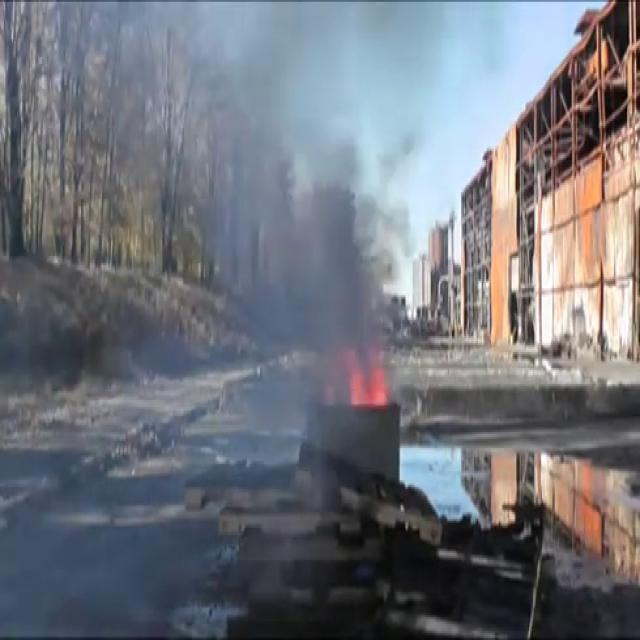Fire: (344, 344, 392, 406)
Smoke: (131, 6, 432, 441)
